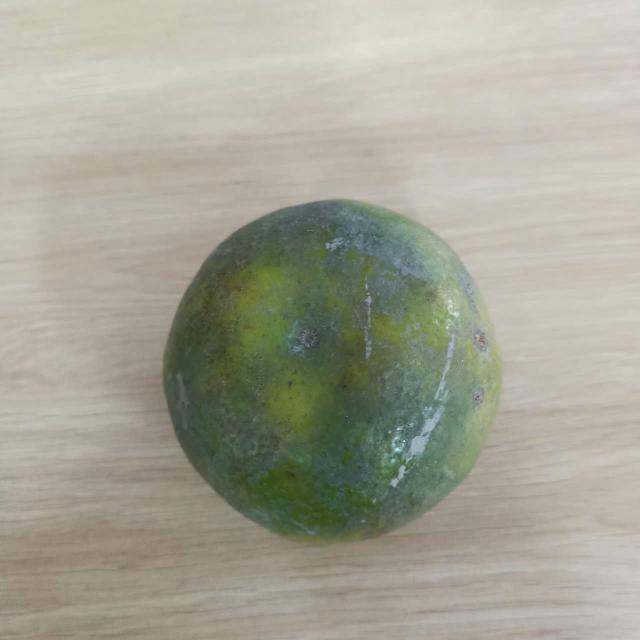Cam: (159, 195, 506, 543)
